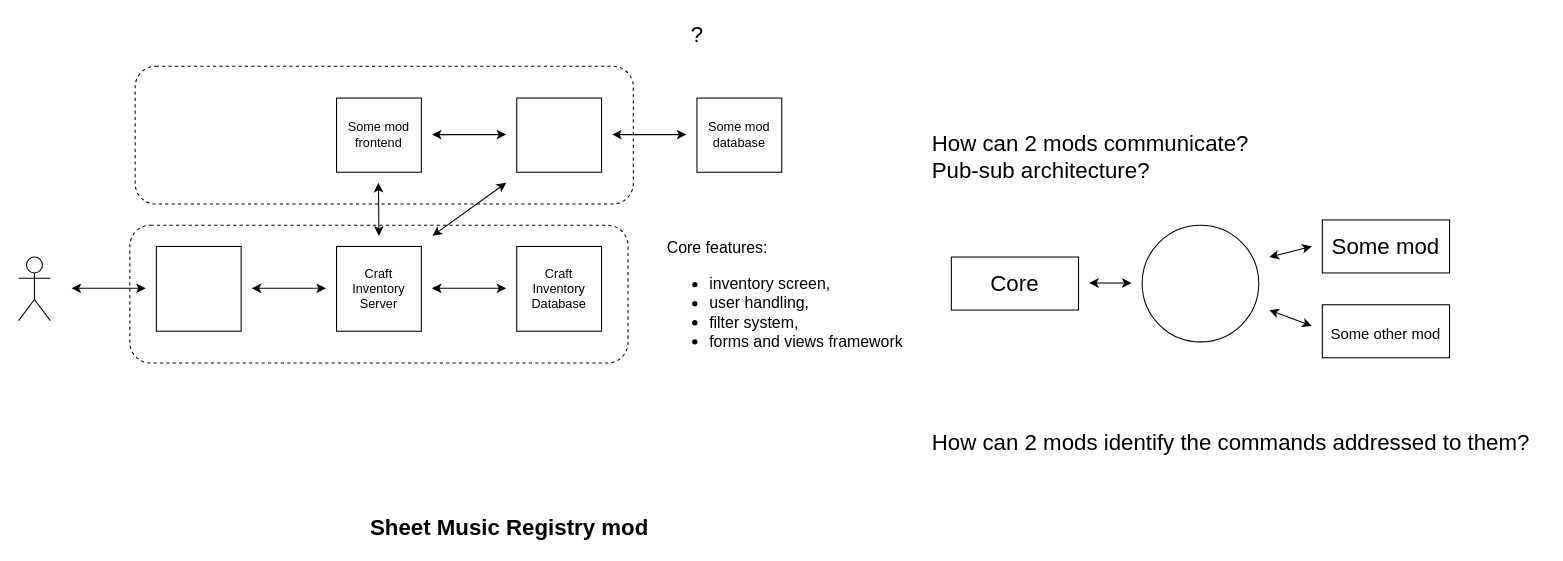
Image size: 1563x561. Some labels were removed from this diagram. The centre of each missing label's shape, as x and y in pixels:
"Actor" belongs at point 33,288.
"Command & query switch" belongs at point 1200,283.
"Craft Inventory Frontend" belongs at point 198,288.
"Some mod server" belongs at point 559,134.
